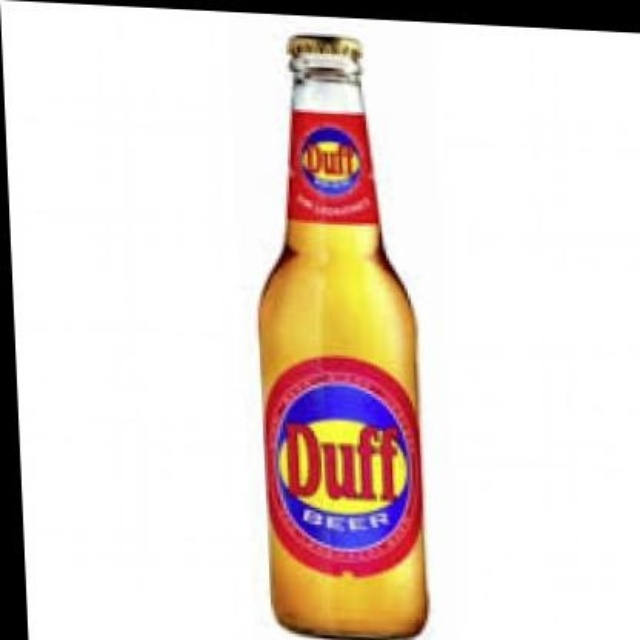trash: (258, 35, 426, 637)
